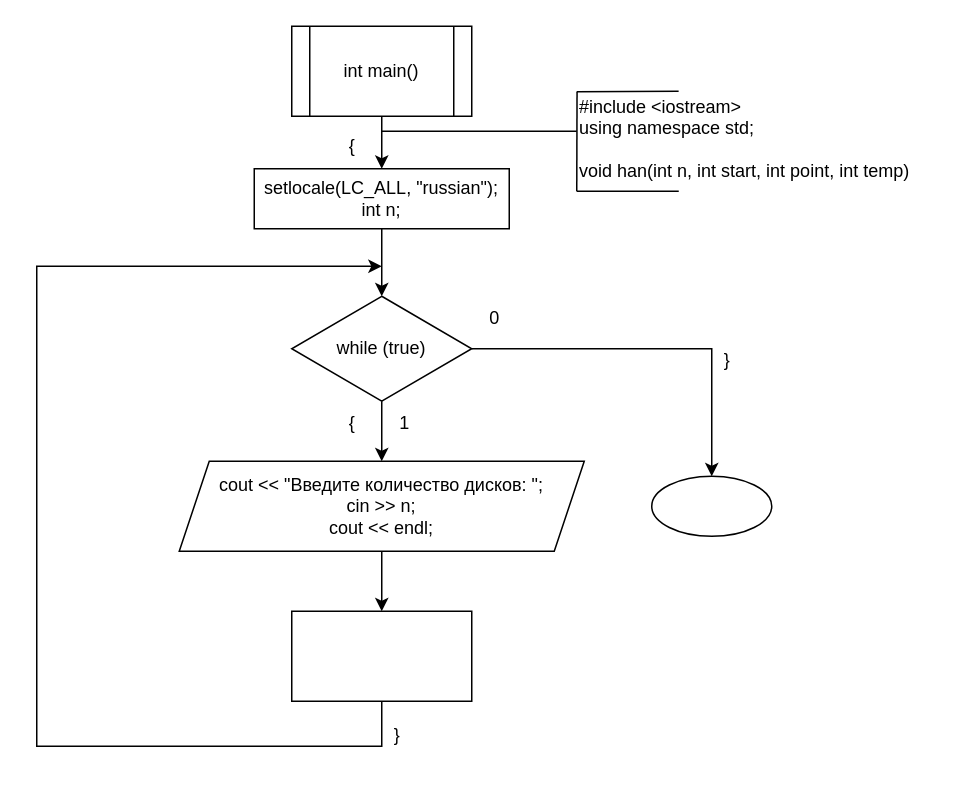
Some shapes in this 963 by 785 pixel diagram are drawn without their labels. The shapes that lost their labels are listed below. From the top down, each one's box as (x1, y1, x2, y2) in pixels, then its label:
(650, 475, 772, 536): return 0;
(290, 610, 472, 701): han(n, 1, 3, 2);
